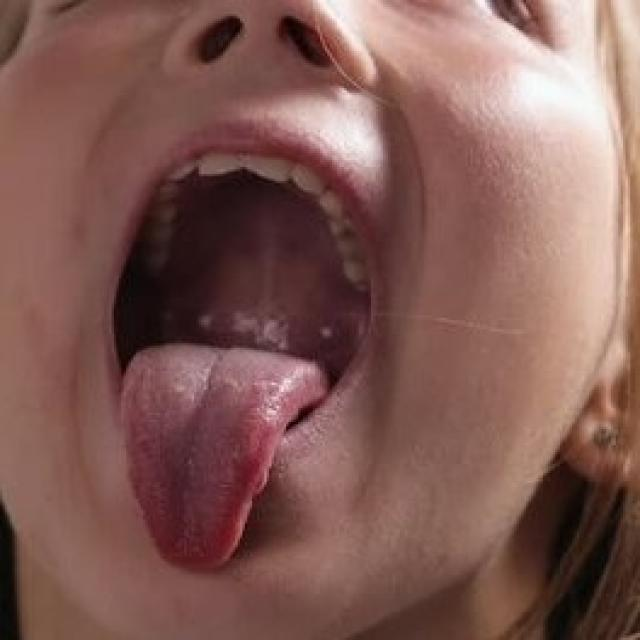No Cancer: (147, 240, 338, 496)
